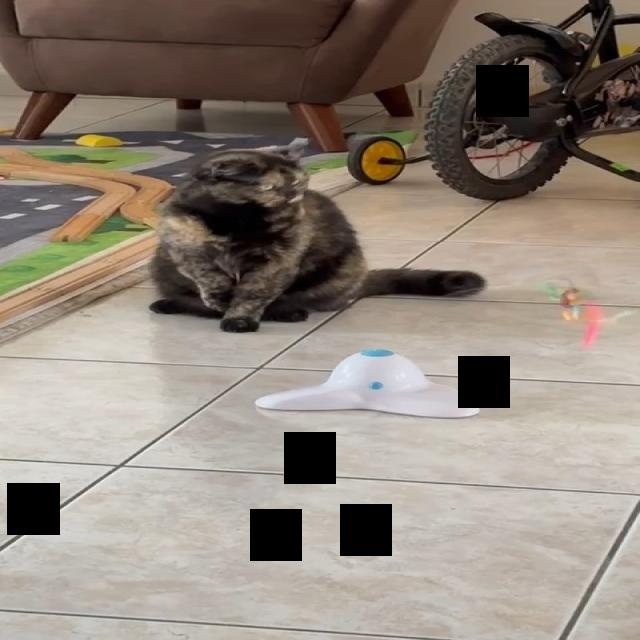authorized: (146, 136, 486, 332)
